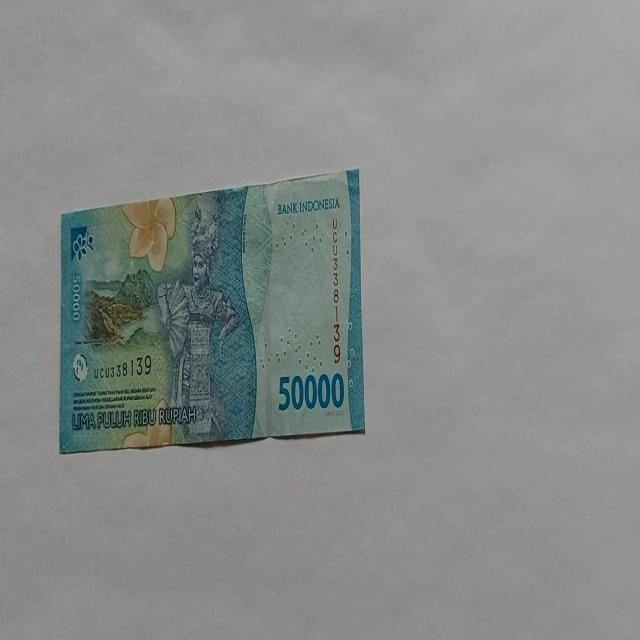lima puluh ribu rupiah: (58, 166, 366, 454)
